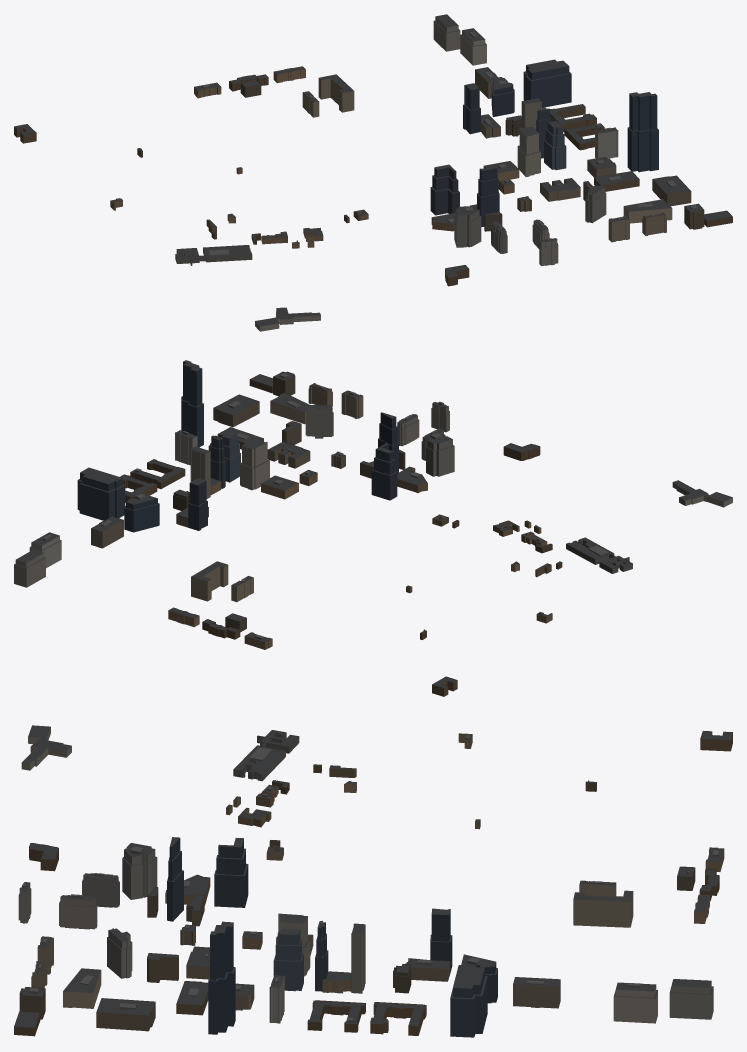
The model's file is manhattan_-05_-05.glb.
The picture shows the model from 3 angles, top to bottom: view 1: azimuth 30°, elevation 25°; view 2: azimuth 150°, elevation 25°; view 3: azimuth 270°, elevation 25°; orthographic projection. The views are drawn at different scales.
Visible parts, largest first — view 1: BLD_midrise_-05_-05, BLD_towers_-05_-05, BLD_lowrise_-05_-05; view 2: BLD_midrise_-05_-05, BLD_towers_-05_-05, BLD_lowrise_-05_-05; view 3: BLD_midrise_-05_-05, BLD_towers_-05_-05, BLD_lowrise_-05_-05.
Boxes of the visible parts, left/top/right/bottom form: BLD_midrise_-05_-05: left=240, top=14, right=704, bottom=265; BLD_towers_-05_-05: left=430, top=59, right=658, bottom=247; BLD_lowrise_-05_-05: left=14, top=66, right=732, bottom=331; BLD_midrise_-05_-05: left=14, top=371, right=449, bottom=632; BLD_towers_-05_-05: left=77, top=360, right=454, bottom=530; BLD_lowrise_-05_-05: left=120, top=374, right=732, bottom=696; BLD_midrise_-05_-05: left=18, top=866, right=713, bottom=1031; BLD_towers_-05_-05: left=122, top=837, right=487, bottom=1037; BLD_lowrise_-05_-05: left=14, top=725, right=732, bottom=1036.
Size of the model in its own units: 1438 by 217 by 1431.
